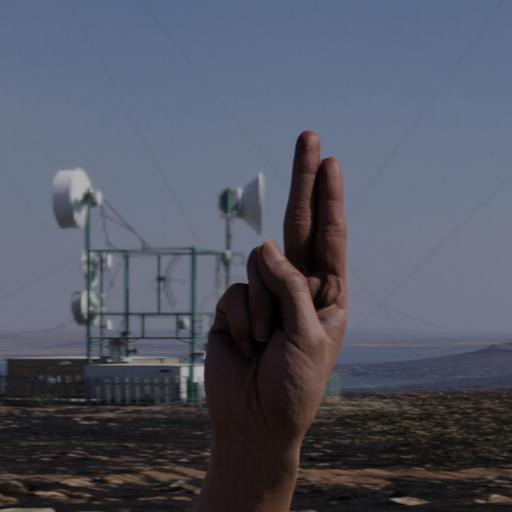U: (175, 121, 372, 512)
